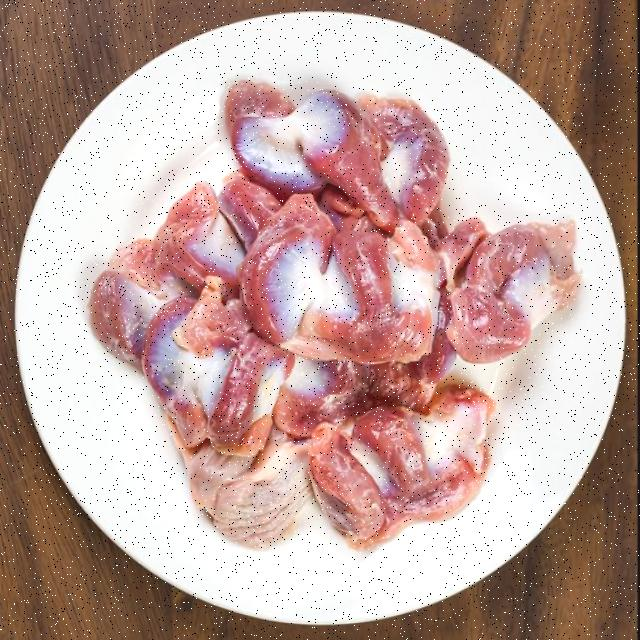Chicken Gizzards: (87, 91, 544, 538)
